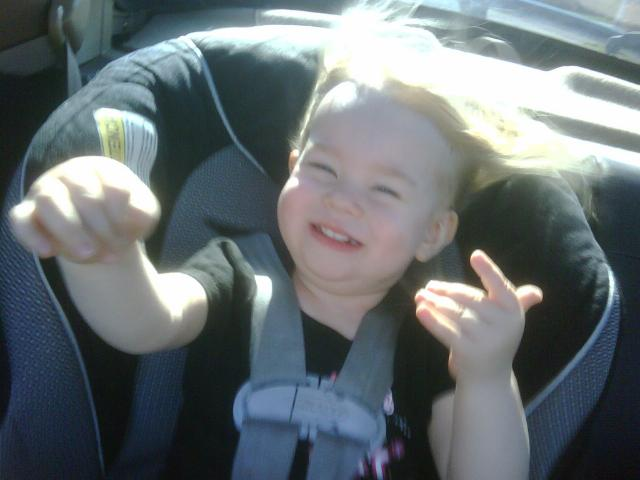Seatbelt: (225, 229, 412, 479), (66, 39, 82, 99)
